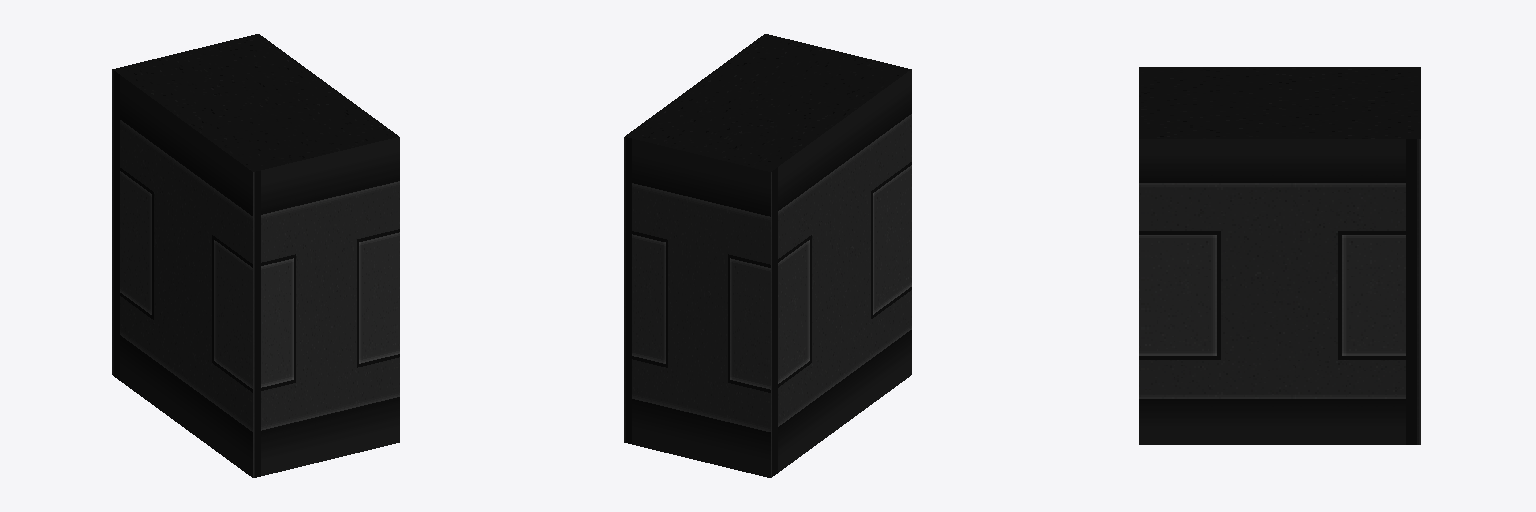
The picture shows the model from 3 angles: view 1: azimuth 30°, elevation 25°; view 2: azimuth 150°, elevation 25°; view 3: azimuth 270°, elevation 25°; orthographic projection.
Visible parts, largest first — view 1: door1; view 2: door1; view 3: door1.
Part boxes in pixels (x1,y1,x2,y2): door1: (112, 34, 399, 477); door1: (624, 34, 911, 477); door1: (1139, 67, 1420, 444).
Size of the model in its own units: 0.6 by 1.2 by 1.
Materials: 2 (1 with a texture image).